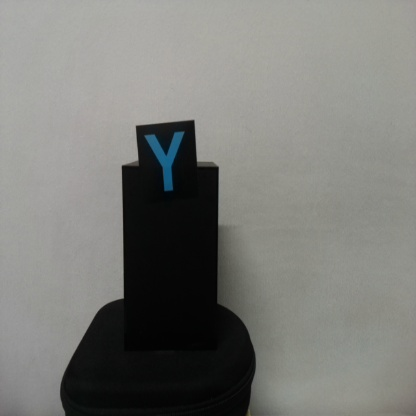id_14: (135, 124, 198, 201)
